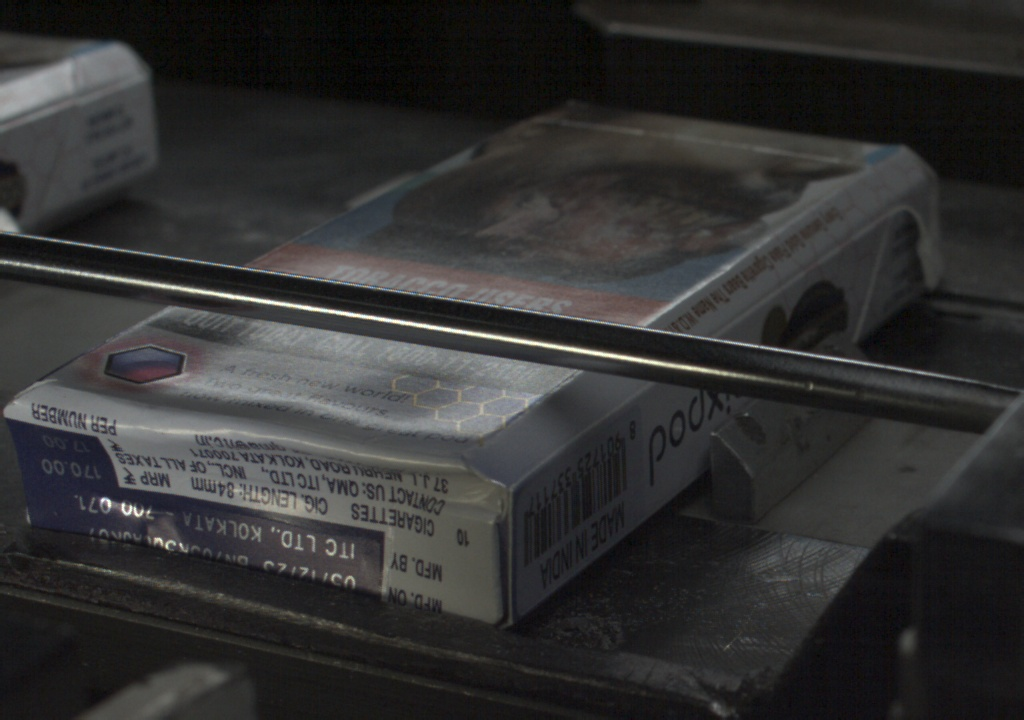g_lmiter: (798, 213, 883, 275), (713, 273, 796, 336), (512, 433, 585, 486), (585, 383, 650, 432)
ng_bottom: (216, 449, 506, 589), (8, 408, 296, 538)
ng_label: (58, 491, 362, 594)
ng_miter: (885, 178, 940, 245)
price: (17, 429, 112, 484)
